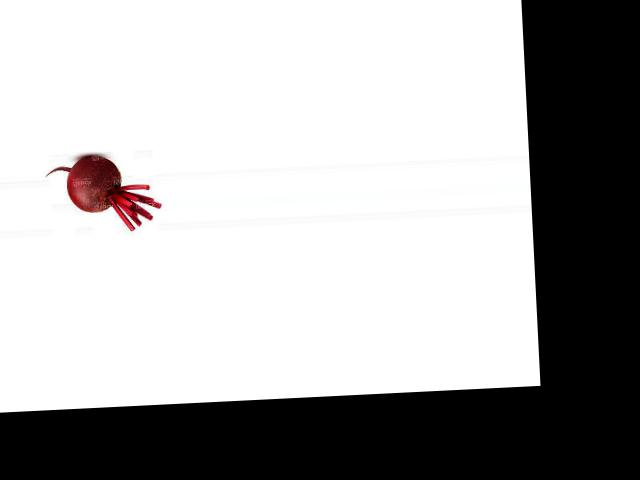beet: (45, 152, 163, 234)
